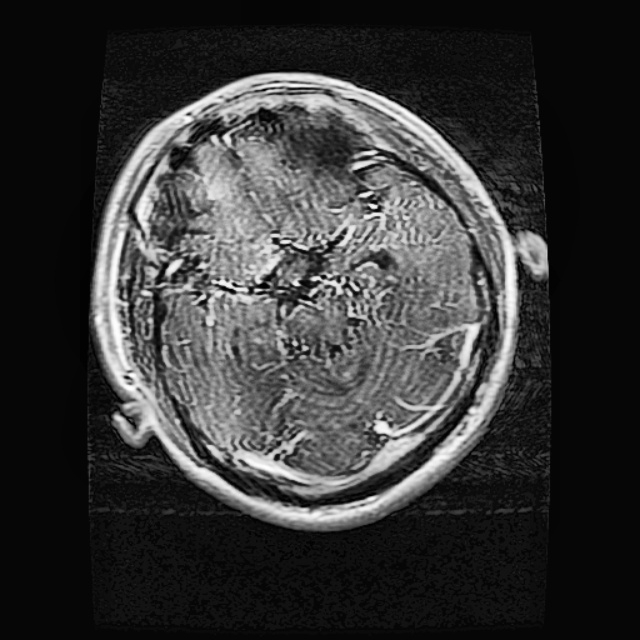Glioma: (260, 244, 328, 307)
